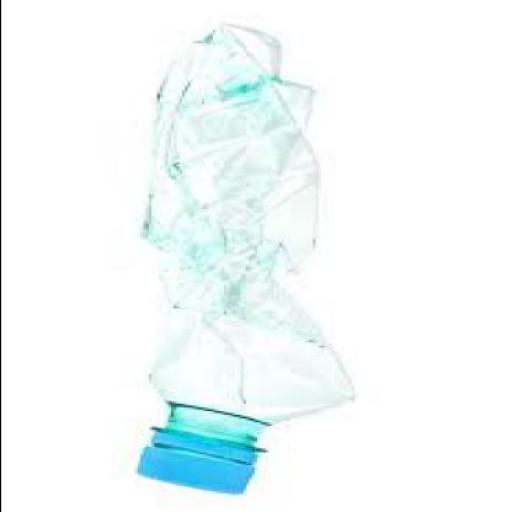plastic: (139, 19, 356, 491), (136, 419, 270, 491)
